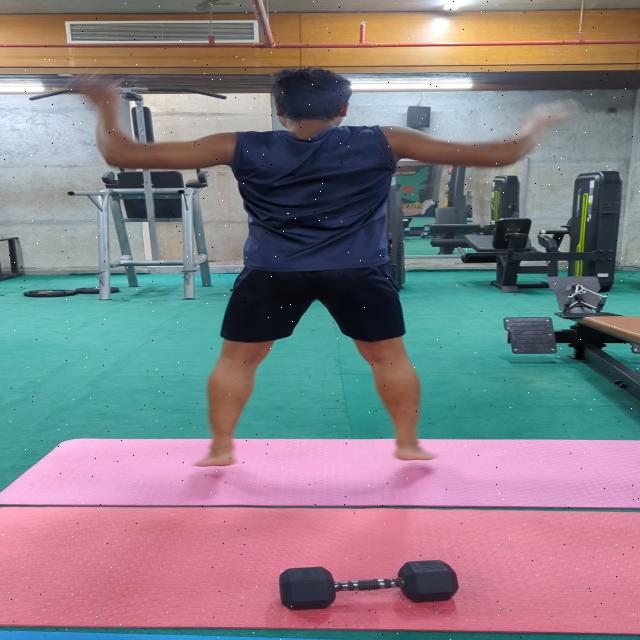Normal_JumpingJacks: (65, 57, 577, 476)
